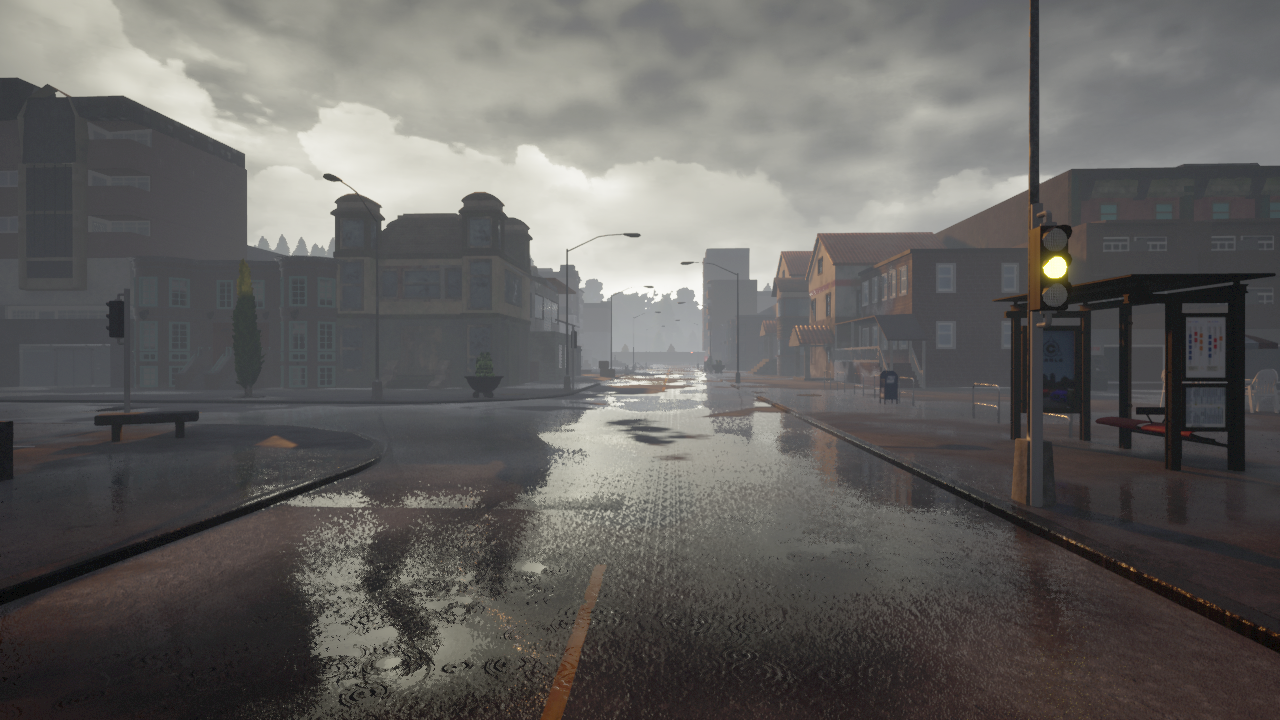yellow: (1031, 221, 1074, 316)
